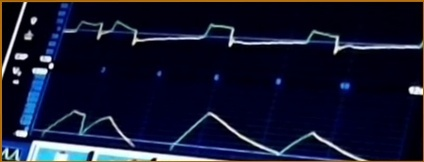Double_Triggering Flow: (70, 11, 404, 64)
Double_Triggering Volume: (42, 102, 371, 162)
